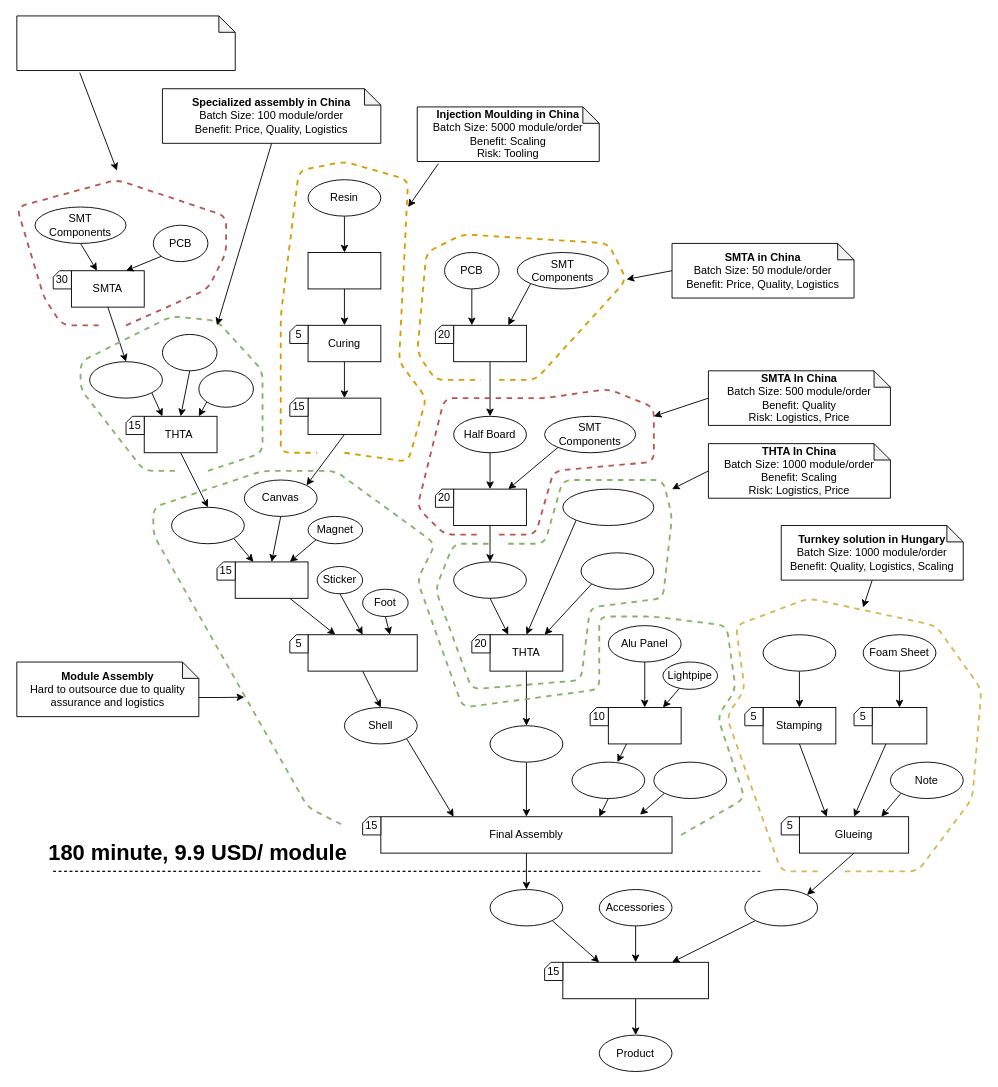
Some shapes in this 998 by 1087 pixel diagram are drawn without their labels. Each missing label, with the centre of its shape:
"Assembly" belongs at (644,725).
"Box" belongs at (781,907).
"Cutting" belongs at (899,725).
"Face" belongs at (608,780).
"FFC" belongs at (225,388).
"FFC Connector" belongs at (617,570).
"Fitting" belongs at (362,652).
"Flat Box" belongs at (799,652).
"Gluing" belongs at (271,579).
"Guts" belongs at (526,743).
"Interface" belongs at (207,525).
"Interface Board" belongs at (125,379).
"Knobs" belongs at (690,780).
"Module" belongs at (526,907).
"Motherboard" belongs at (489,579).
"Packaging" belongs at (635,980).
"Pogo pins" belongs at (189,352).
"Printing" belongs at (344,270).
"Processing" belongs at (344,416).
"SMTA (Hot Air)" belongs at (489,507).
"SMTA (Reflow)" belongs at (489,343).
"SMTA in China Batch Size: 100 module/order Benefit: Price, Quality, Logistics" belongs at (125,43).
"UI Components" belongs at (608,507).
